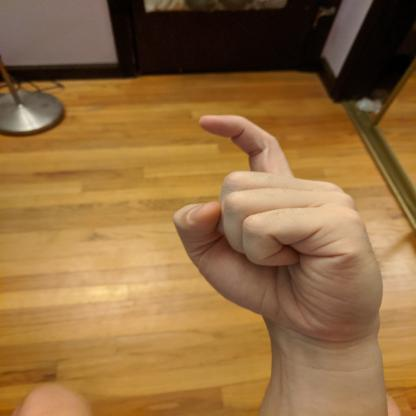X: (167, 110, 389, 341)
